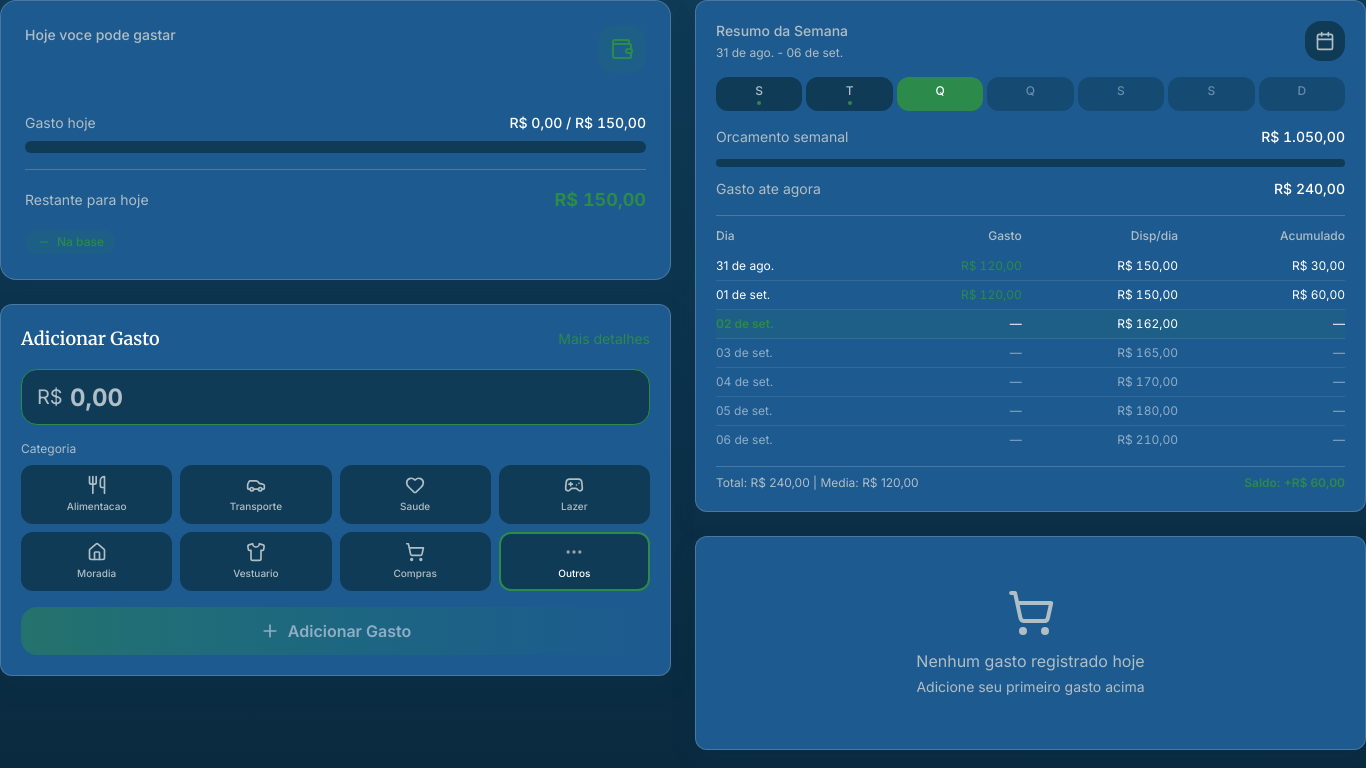
the week strip › should name the day in the empty state instead of always saying today
Expected: the text "Nenhum gasto registrado hoje" is shown, [916,651,1145,671]
Click the 1st button "S": coordinates (759, 94) [716,77,802,111]
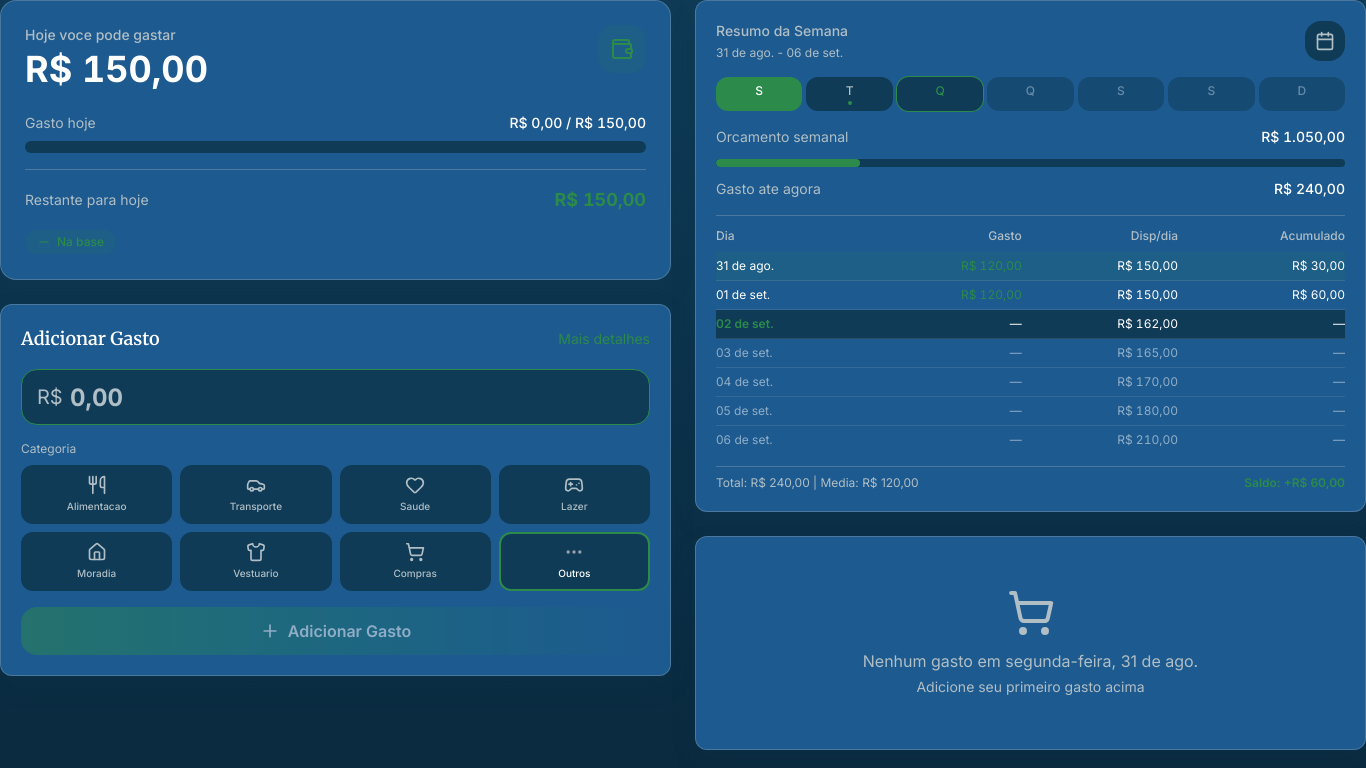
Expected: the text "Nenhum gasto em" is shown, [863,651,1198,671]
